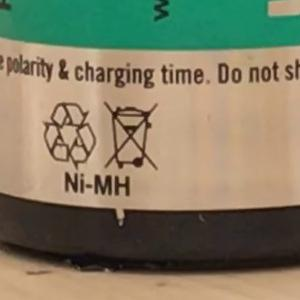keyword: (55, 165, 140, 203)
